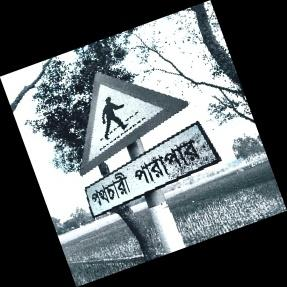Pedestrian-crossing: (78, 71, 221, 226)
